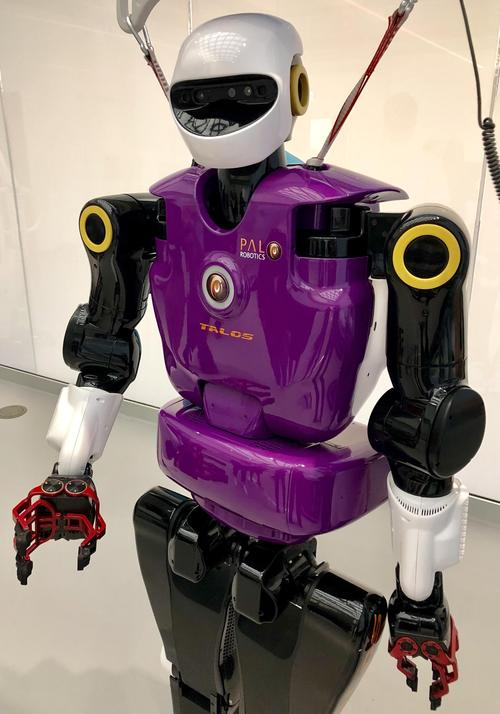person-like: (9, 8, 492, 714)
